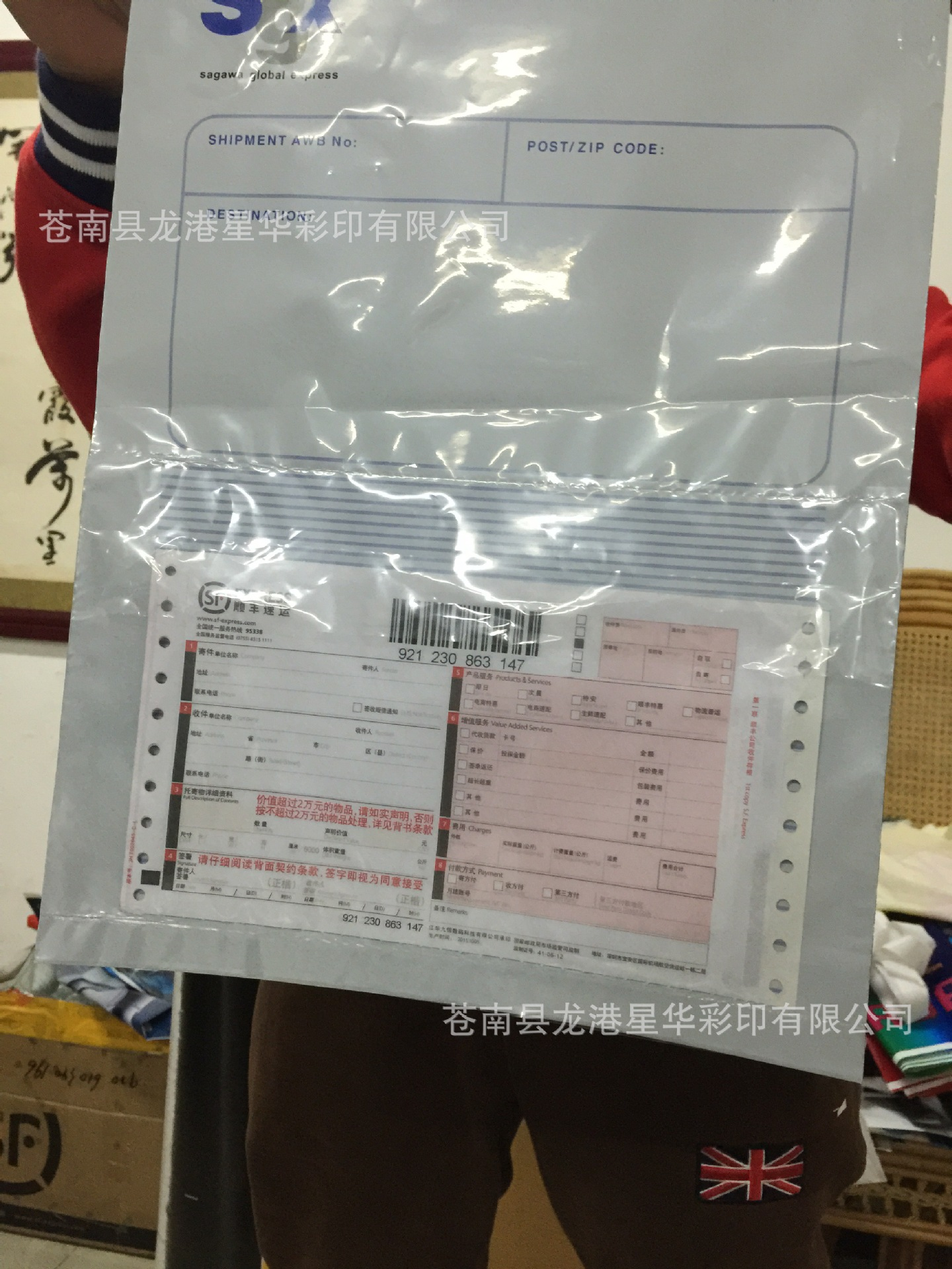Parcel: (43, 0, 942, 1079)
